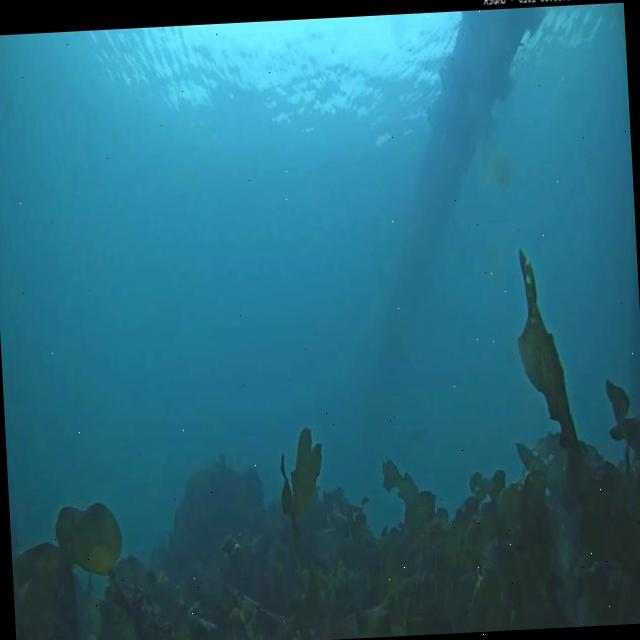fish: (406, 416, 437, 456)
